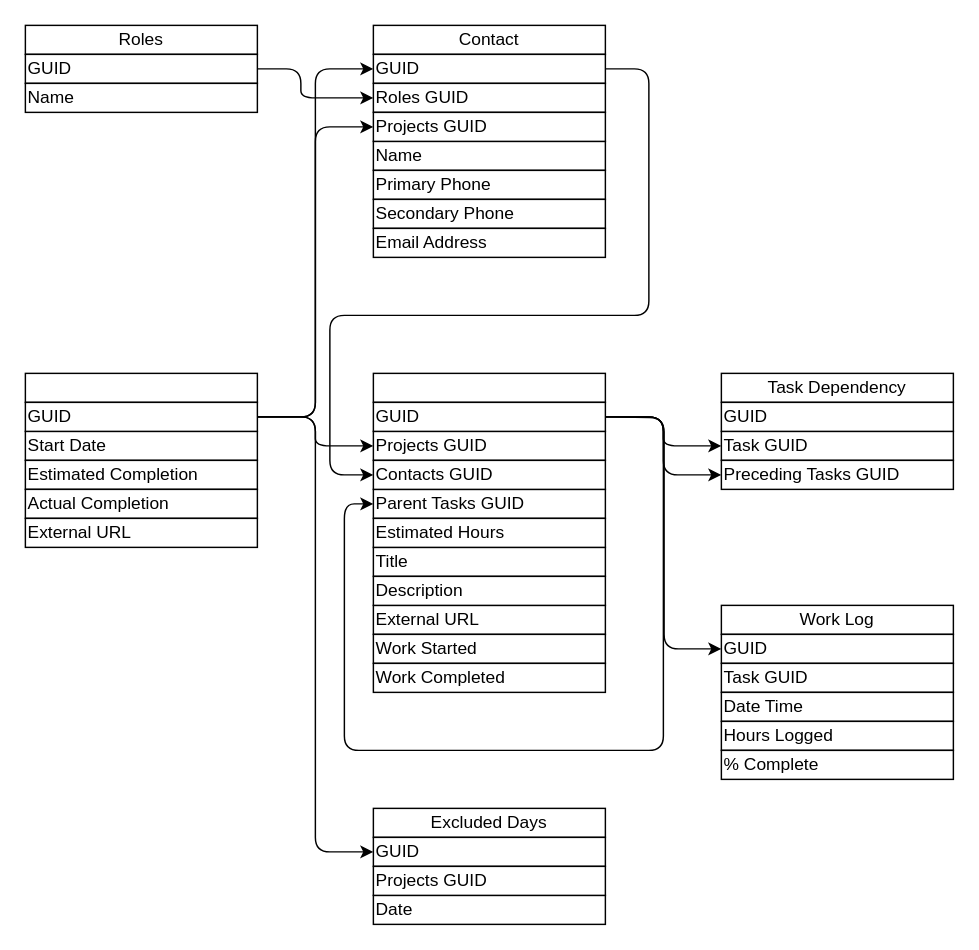
Image size: 979x950. Some labels were removed from this diagram. The box of each missing label's shape, as (x1, y1, x2, y2) in pixels:
Project: (24, 372, 257, 402)
Task: (372, 372, 605, 402)
